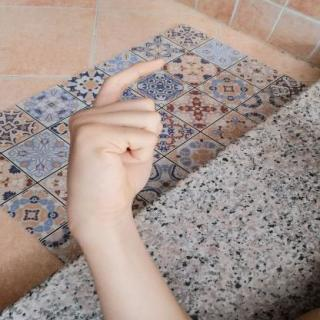RAA: (56, 51, 174, 232)
